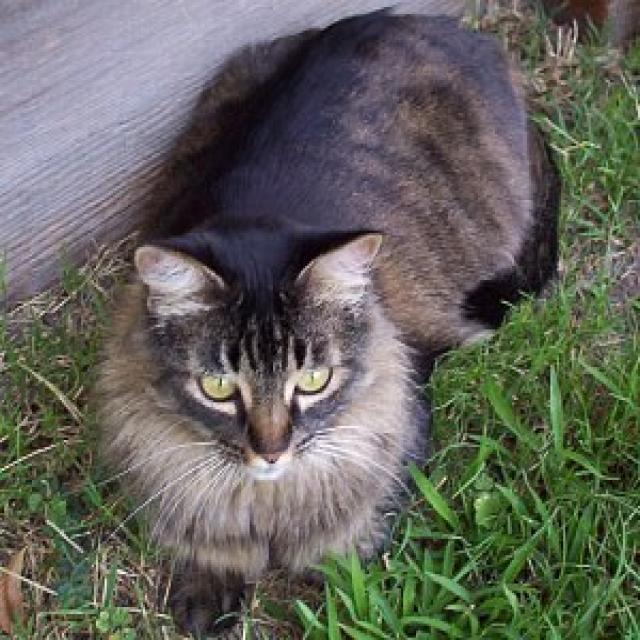Maine_Coon: (135, 218, 384, 491)
